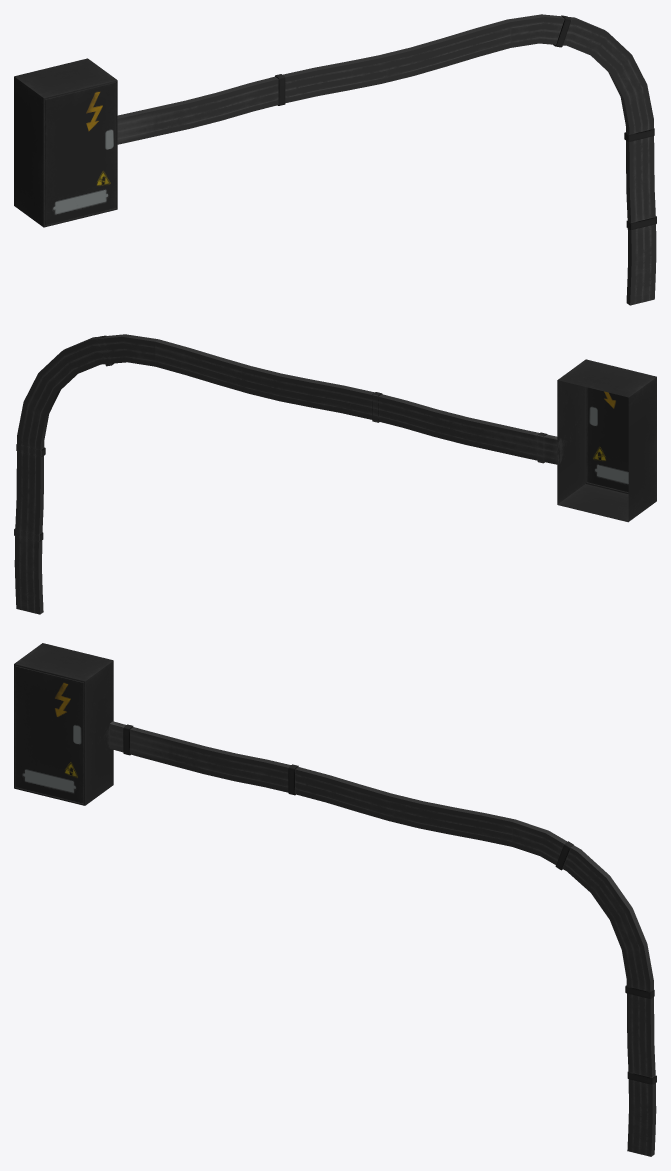
The model's file is power_box_thing.glb.
3 views of the same model, one above another, from view 1: azimuth 30°, elevation 25°; view 2: azimuth 150°, elevation 25°; view 3: azimuth 330°, elevation 25° (orthographic). The views are drawn at different scales.
Parts seen in each view (by area): view 1: PowerBox_Low, WireHorizontal_Low, WireVertical_Low; view 2: PowerBox_Low, WireHorizontal_Low, WireVertical_Low; view 3: PowerBox_Low, WireHorizontal_Low, WireVertical_Low.
Boxes of the visible parts, x1,y1,x2,y2 form: PowerBox_Low: (14, 58, 117, 227); WireHorizontal_Low: (117, 19, 510, 144); WireVertical_Low: (507, 14, 656, 305); PowerBox_Low: (557, 359, 656, 522); WireHorizontal_Low: (155, 339, 557, 464); WireVertical_Low: (14, 334, 157, 614); PowerBox_Low: (14, 643, 113, 805); WireHorizontal_Low: (109, 721, 515, 846); WireVertical_Low: (512, 819, 656, 1156).
Bounding box in the file's own units: 261 × 147 × 21.02.
Materials: 1 (1 with a texture image).
